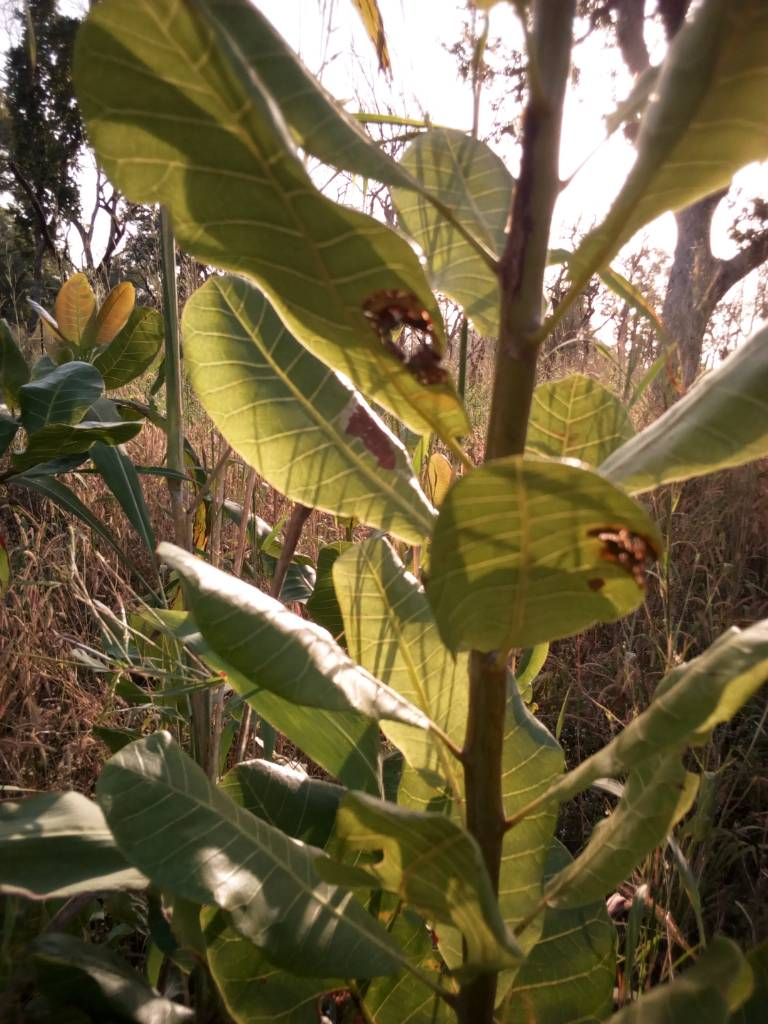Dysdercus wolkerii: (171, 275, 469, 580)
